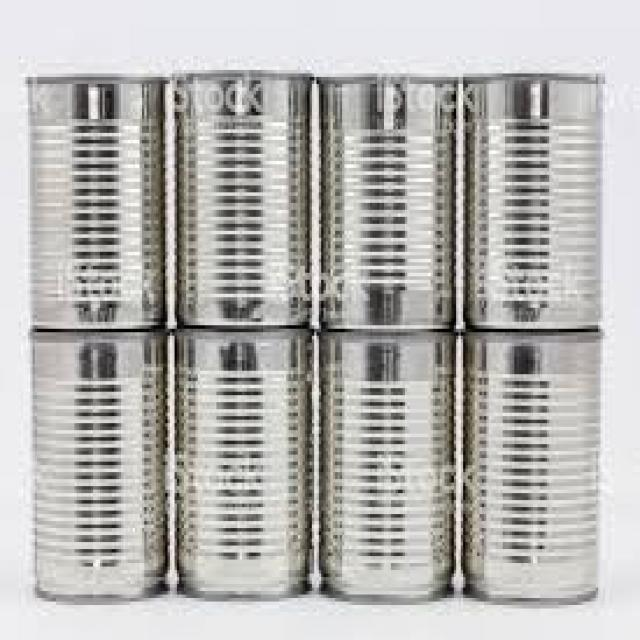recyclable: (459, 329, 604, 606), (172, 331, 316, 601), (29, 330, 170, 603), (460, 70, 608, 330), (316, 332, 458, 600), (170, 69, 316, 329), (24, 74, 171, 330), (316, 71, 458, 334)
